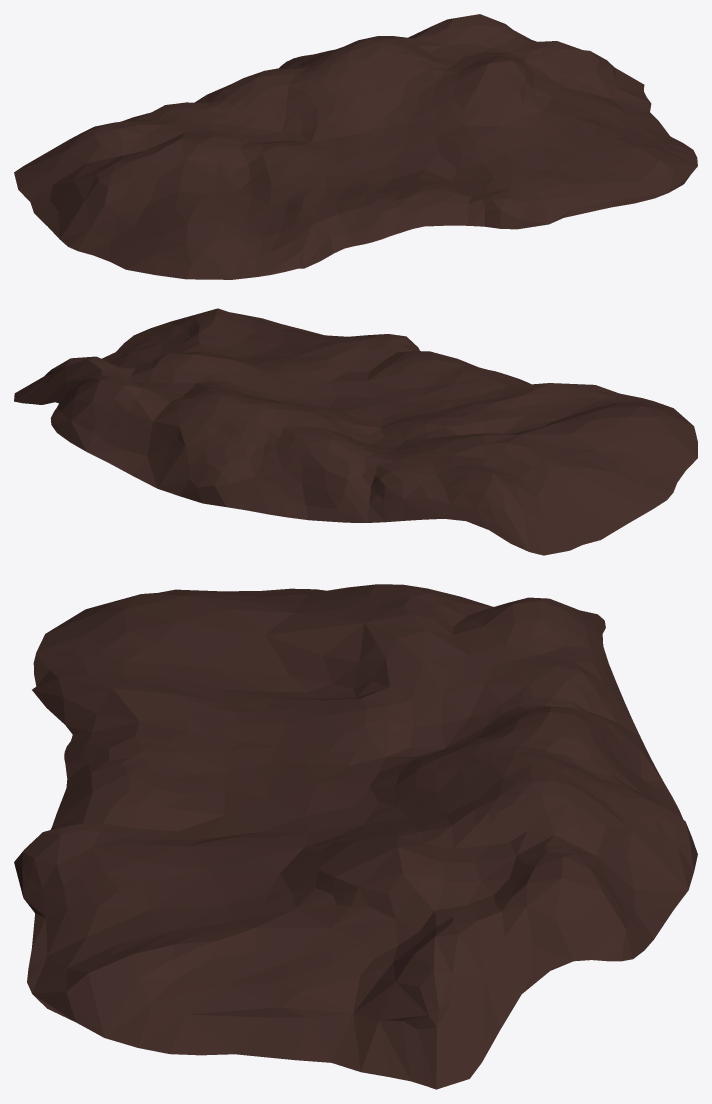
File: hill_003.fbx
3 views of the same model, one above another, from view 1: azimuth 30°, elevation 25°; view 2: azimuth 150°, elevation 25°; view 3: azimuth 270°, elevation 25° (orthographic). The views are drawn at different scales.
Visible parts, largest first — view 1: hill_003; view 2: hill_003; view 3: hill_003.
Boxes of the visible parts, box(x1,y1,x2,y2) form: hill_003: box(14, 14, 697, 279); hill_003: box(14, 308, 697, 555); hill_003: box(14, 584, 697, 1089).
Bounding box in the file's own units: 10009 × 6079 × 1214.
